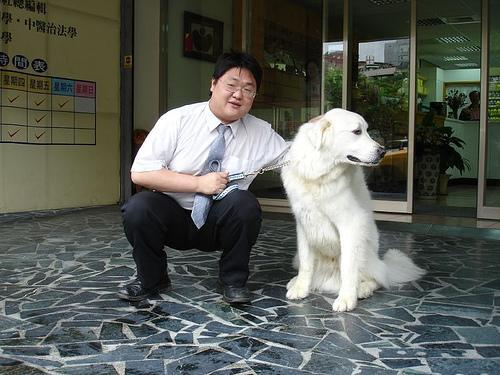Great_Pyrenees: (283, 108, 427, 312)
